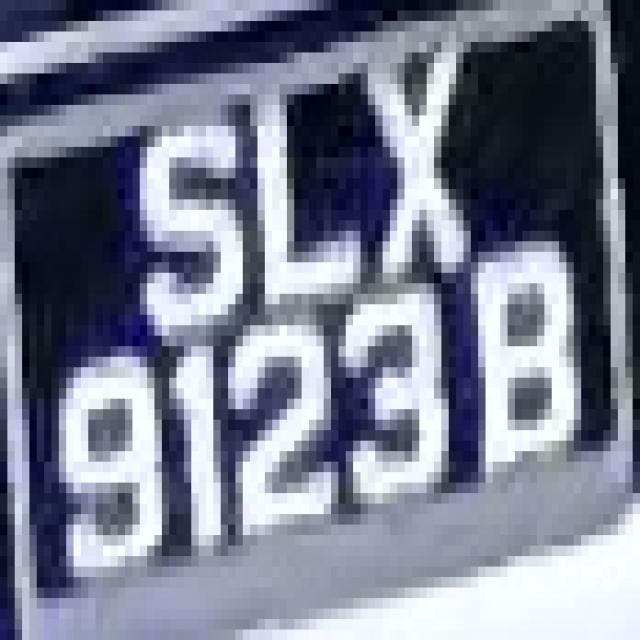1: (154, 325, 243, 556)
2: (236, 314, 353, 546)
3: (338, 262, 442, 504)
9: (37, 346, 169, 577)
B: (463, 231, 596, 472)
L: (228, 73, 353, 315)
S: (110, 105, 228, 336)
X: (338, 11, 478, 262)
